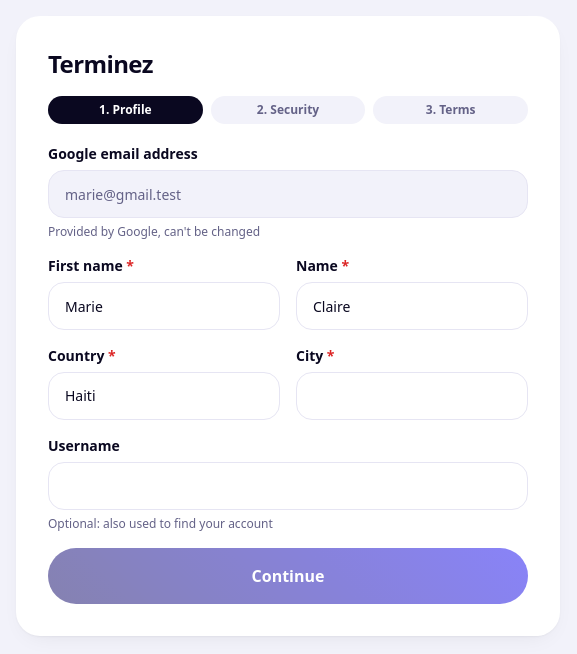
it: inscription progressive : profil, questions, conditions › étape 1 : e-mail Google en lecture seule, préremplissage, ville obligatoire
Expected: the field showing "marie@gmail.test" is disabled, [48,170,528,218]
Expected: the field showing "Marie" holds "Marie", [48,282,280,330]
Type "Jacmel" into the field labelled "City *" at (412, 396), box [296,372,528,420]
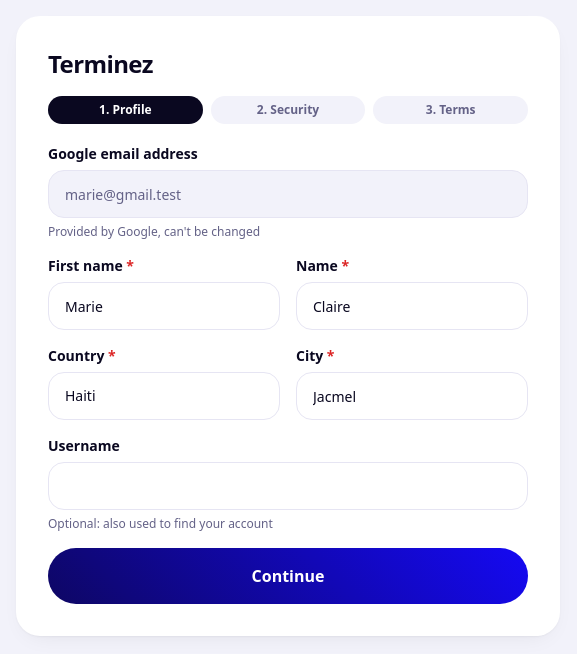
Result: the button "Continue" is enabled at [48,548,528,604]
